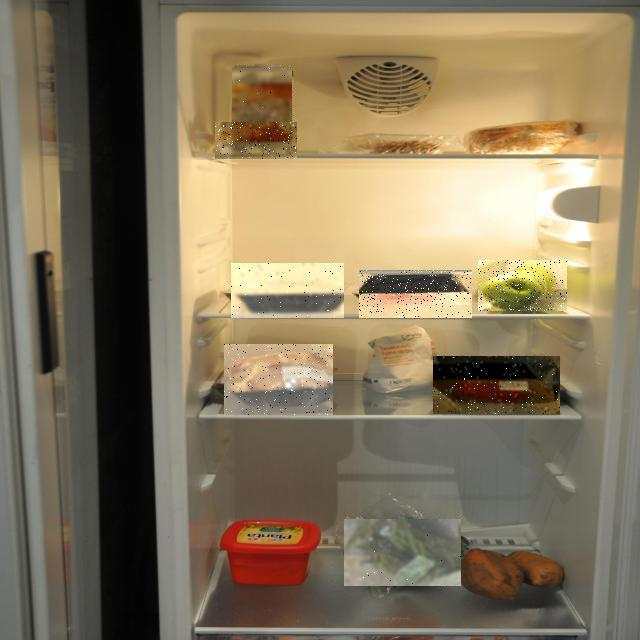apple: (194, 156, 640, 467)
egg: (66, 80, 364, 238)
milk: (86, 78, 378, 235)
